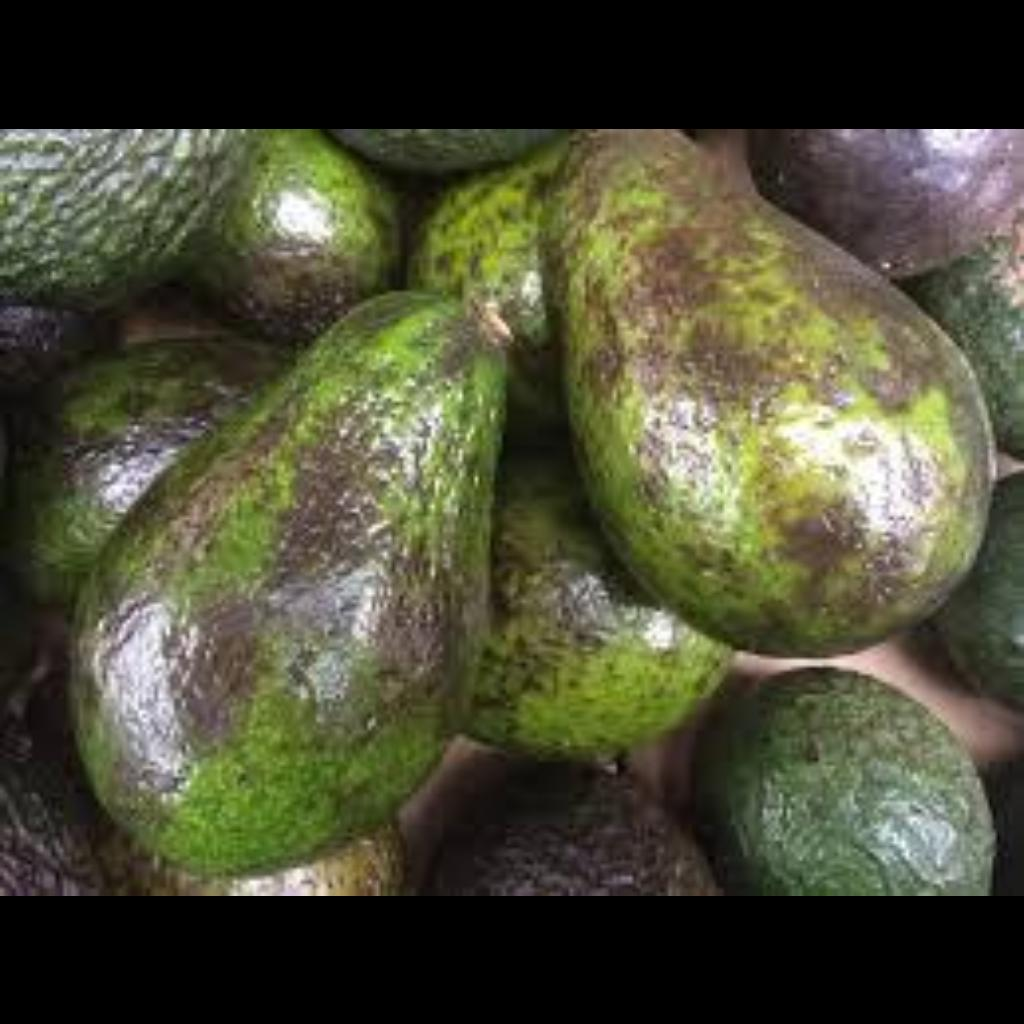antracnosis_fruto: (538, 132, 1024, 650), (46, 350, 476, 812), (508, 733, 729, 887)
